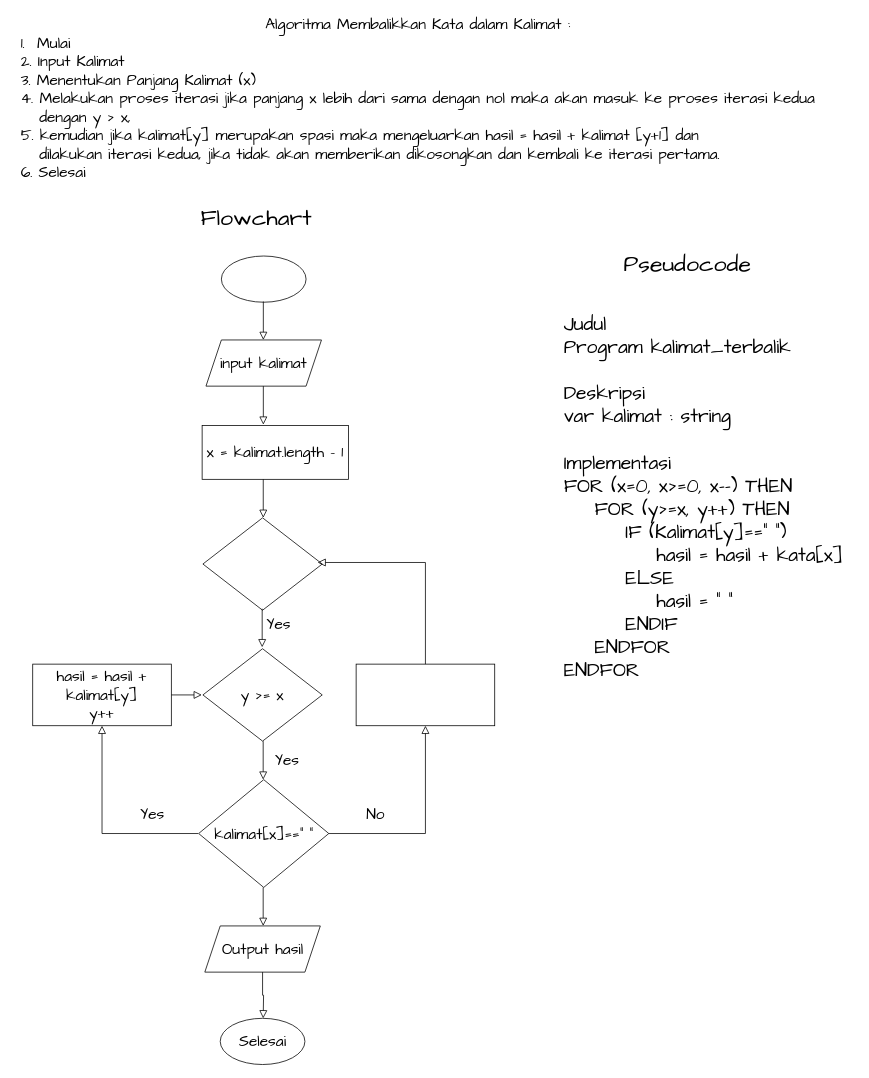
Image size: 869x1078. Some labels were removed from this diagram. The centre of each missing label's shape, as x and y in pixels:
hasil = " ": the point at 425,694
Mulai: the point at 263,278
x >= 0: the point at 262,563
